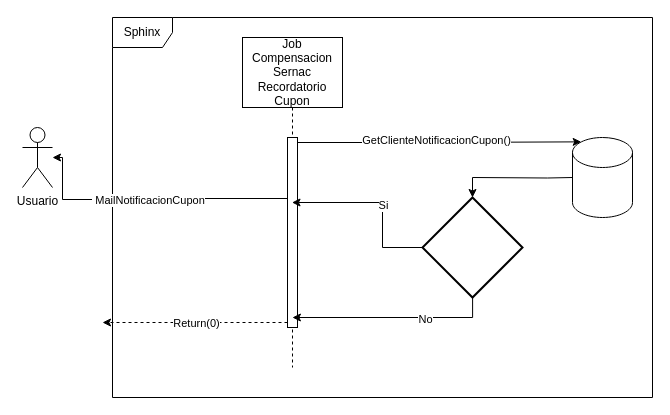
The diagram is 670 pixels wide and 415 high, and some of its shapes have lost their labels. Each missing label, with the box of its shape:
BD Sphinx Pg: (572, 136, 632, 218)
Existe cliente a Notificar: (421, 196, 523, 298)
